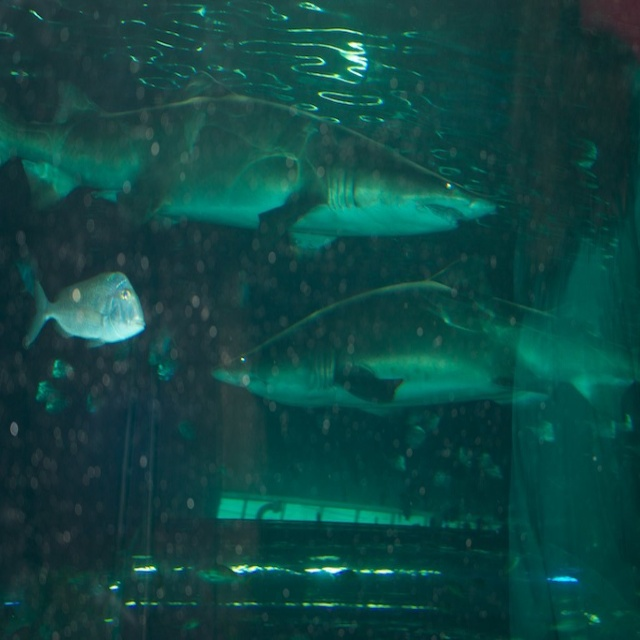Shark: (0, 76, 488, 257), (216, 284, 634, 414)
